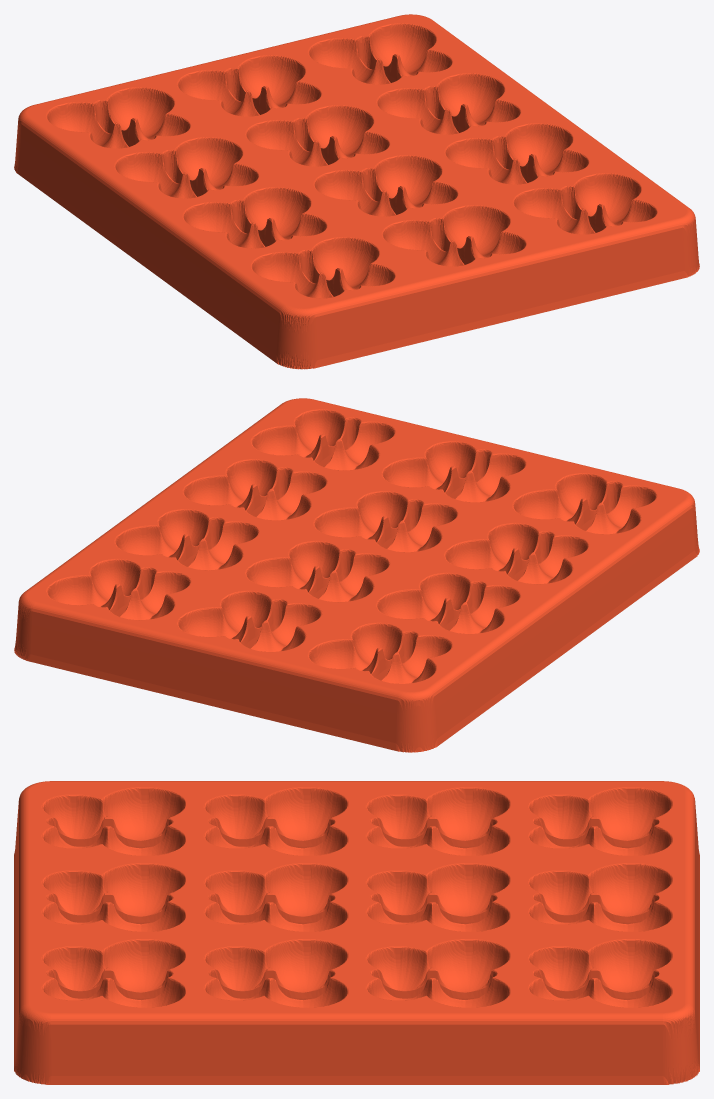
Rendered from mold.glb.
3 renders of one model, top to bottom at view 1: azimuth 30°, elevation 25°; view 2: azimuth 150°, elevation 25°; view 3: azimuth 270°, elevation 25°, orthographic. The views are drawn at different scales.
Parts seen in each view (by area): view 1: geometry_0; view 2: geometry_0; view 3: geometry_0.
Part boxes in pixels (left/top/right/bottom): geometry_0: left=14, top=14, right=699, bottom=369; geometry_0: left=14, top=398, right=699, bottom=752; geometry_0: left=14, top=781, right=699, bottom=1084.
Size of the model in its own units: 0.1389 by 0.0175 by 0.1654.
